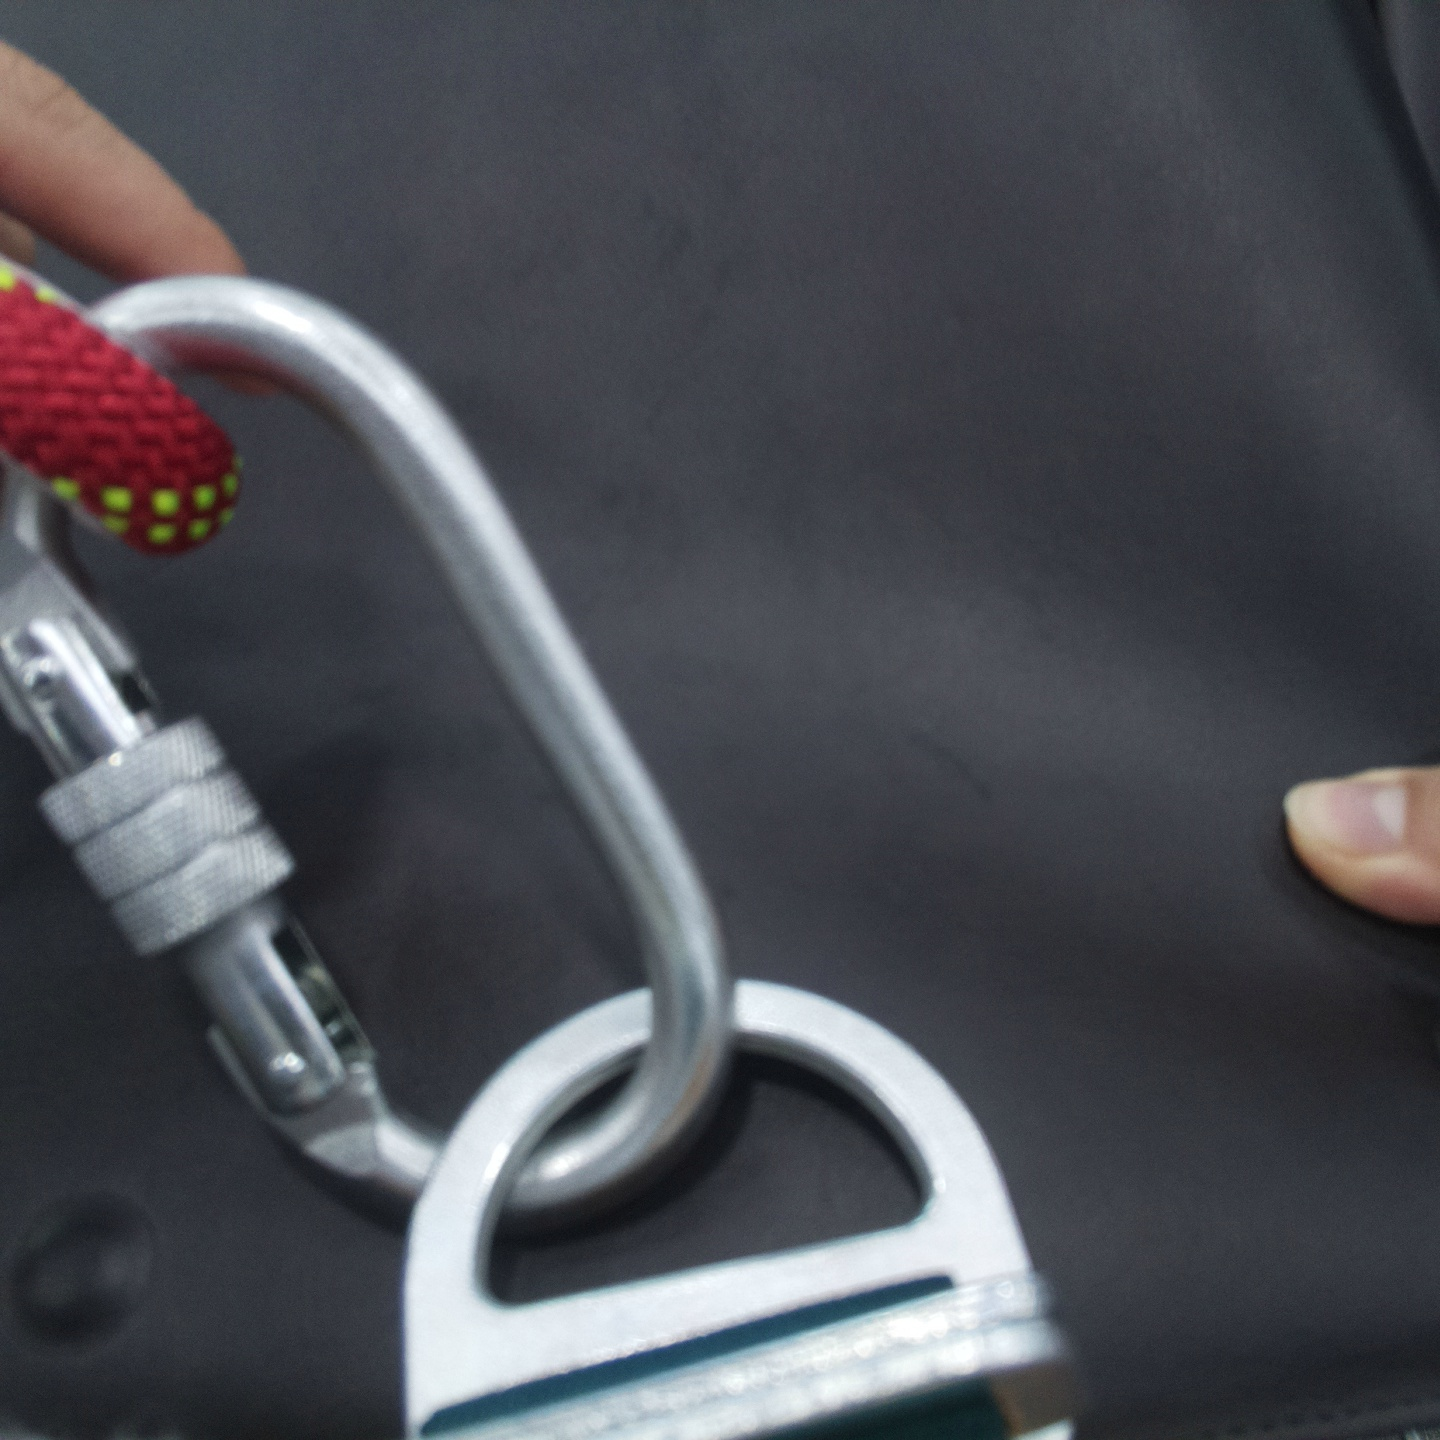SUCCESS: (57, 655, 1083, 1391)
